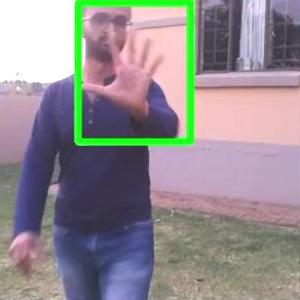follow_hand: (77, 18, 173, 106)
